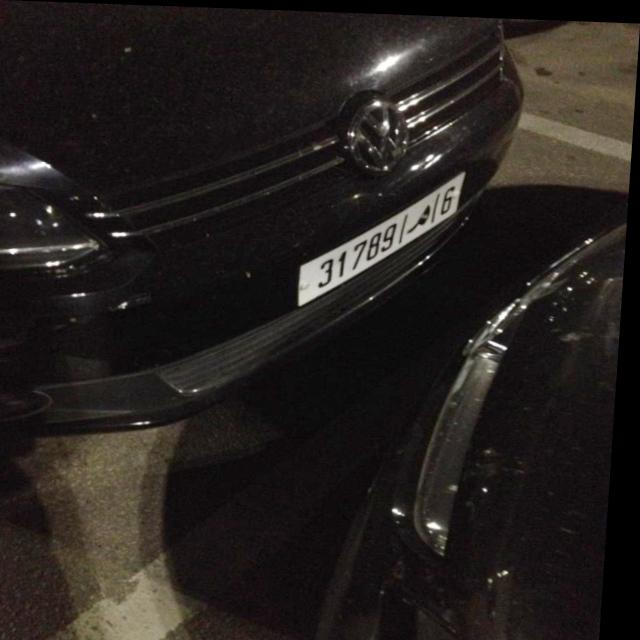License-Plate: (302, 170, 466, 302)
